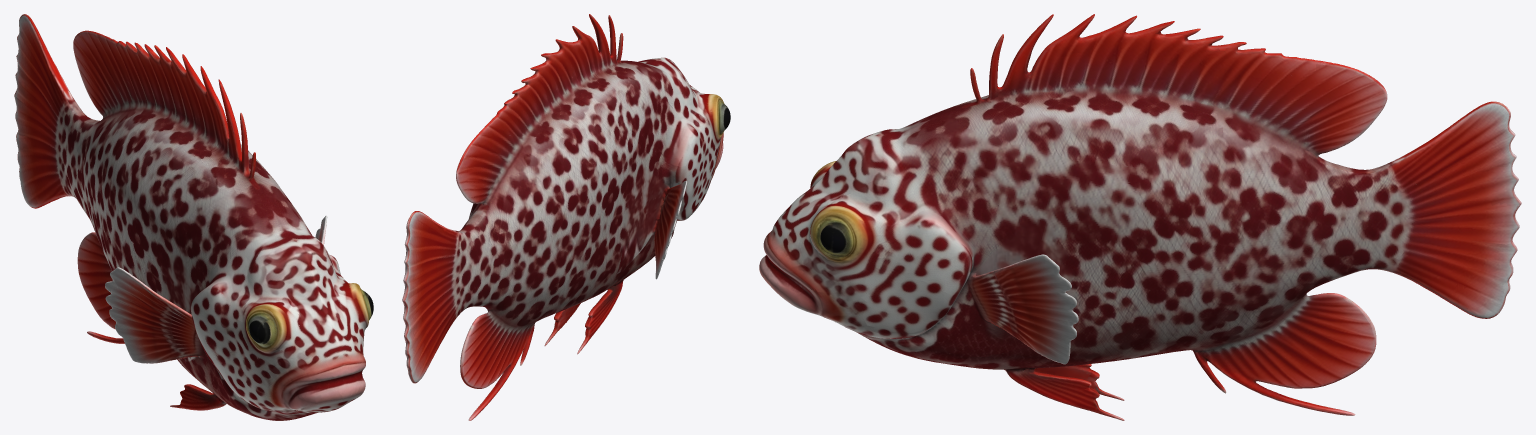
Rendered from LaHan.glb.
3 views of the same model, side by side, from view 1: azimuth 30°, elevation 25°; view 2: azimuth 150°, elevation 25°; view 3: azimuth 270°, elevation 25° (orthographic). The views are drawn at different scales.
Parts seen in each view (by area): view 1: mesh_node; view 2: mesh_node; view 3: mesh_node.
Part boxes in pixels (<box>): mesh_node: <box>14,14,373,420</box>; mesh_node: <box>402,14,730,420</box>; mesh_node: <box>759,14,1521,420</box>.
Bounding box in the file's own units: 0.704 × 1.1 × 1.9.
1 material, 1 textured.
